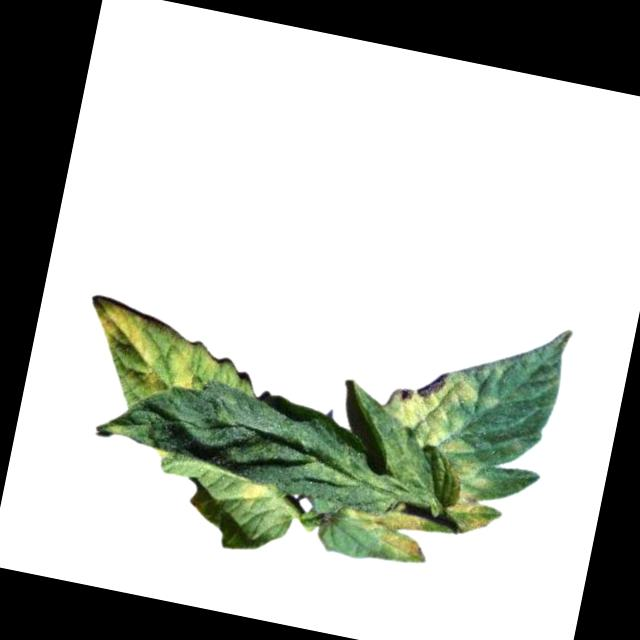Leaf_Mold: (76, 293, 228, 404), (299, 414, 445, 515), (375, 359, 489, 462), (336, 496, 437, 567), (437, 457, 504, 539), (238, 477, 277, 517)
